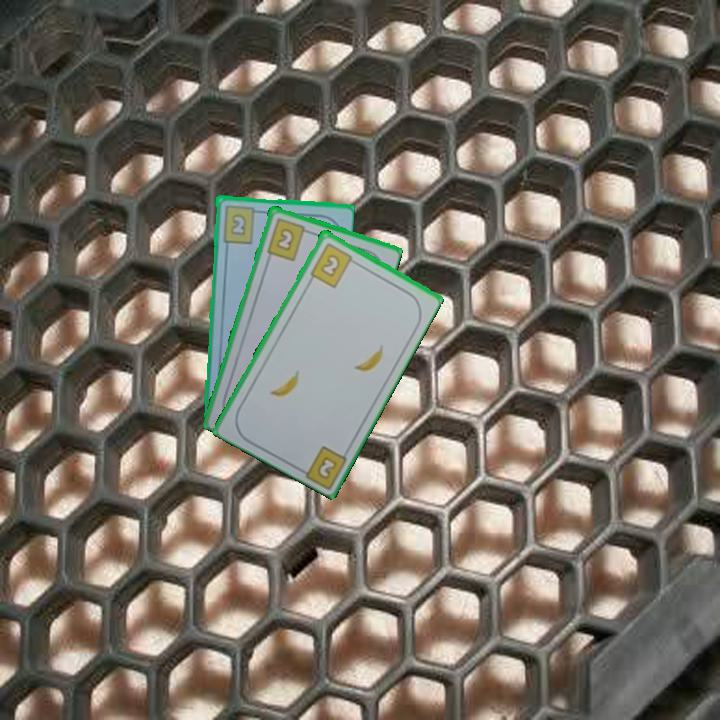2b: (307, 239, 360, 290), (263, 214, 313, 263), (219, 202, 263, 245), (314, 452, 340, 482)
